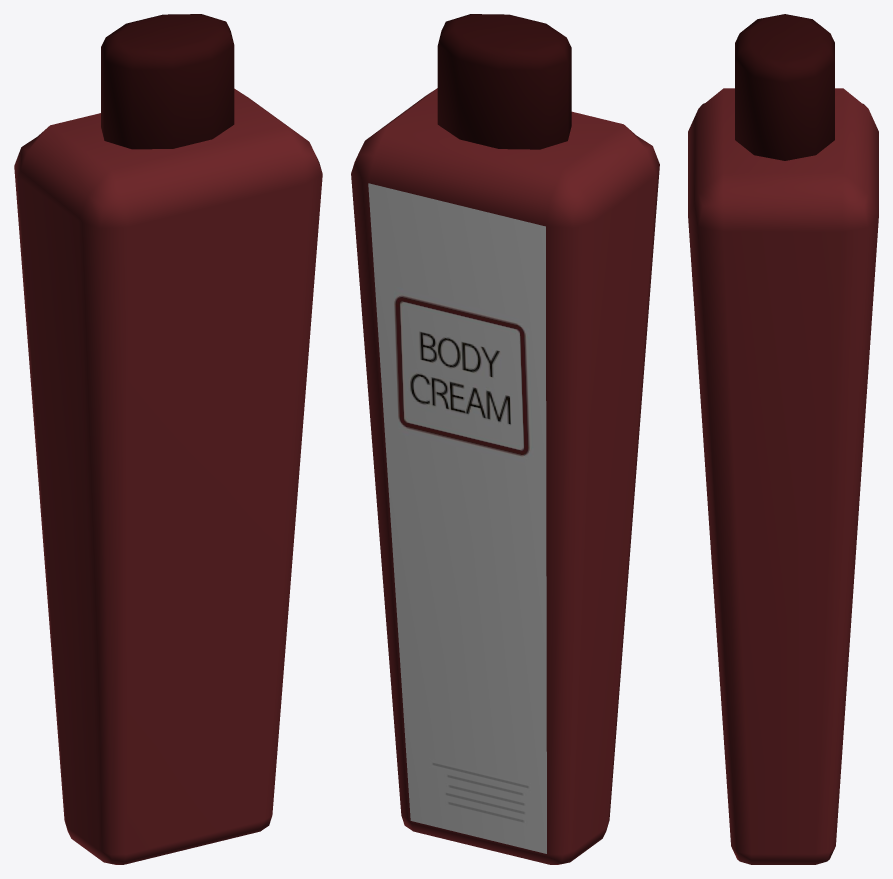
The model's file is Eden_bodycream.fbx.
The picture shows the model from 3 angles, left to right: view 1: azimuth 30°, elevation 25°; view 2: azimuth 150°, elevation 25°; view 3: azimuth 270°, elevation 25°; orthographic projection.
Parts seen in each view (by area): view 1: realbodycream; view 2: realbodycream; view 3: realbodycream.
Part boxes in pixels (x1=…): realbodycream: x1=14, y1=14, x2=322, y2=864; realbodycream: x1=351, y1=14, x2=659, y2=864; realbodycream: x1=688, y1=14, x2=878, y2=864.
Size of the model in its own units: 0.00117 by 0.00374 by 0.000814.
1 material, 1 textured.
